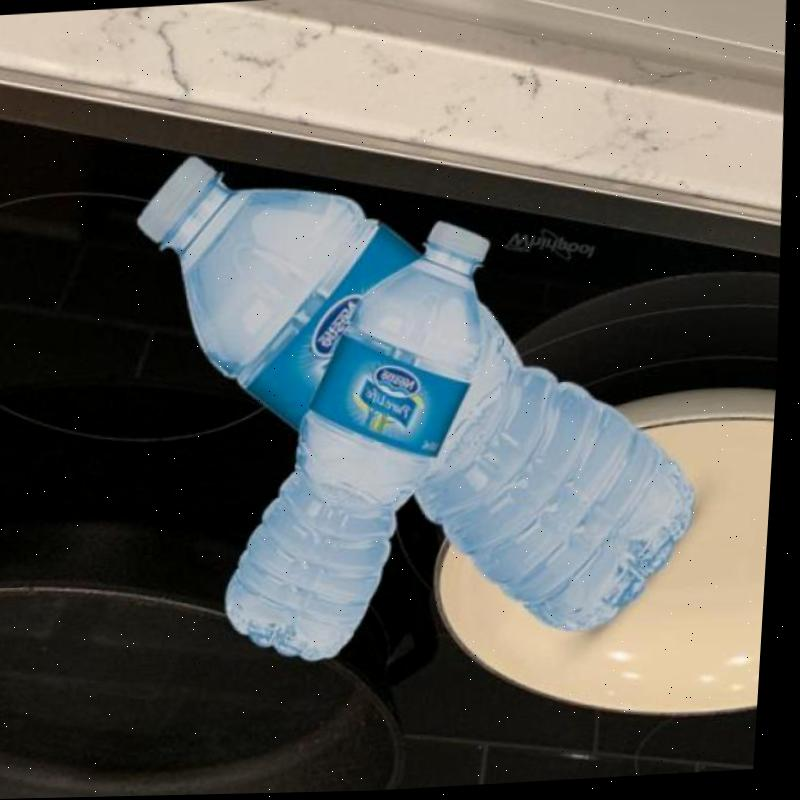botella: (115, 125, 726, 656), (214, 215, 508, 668)
